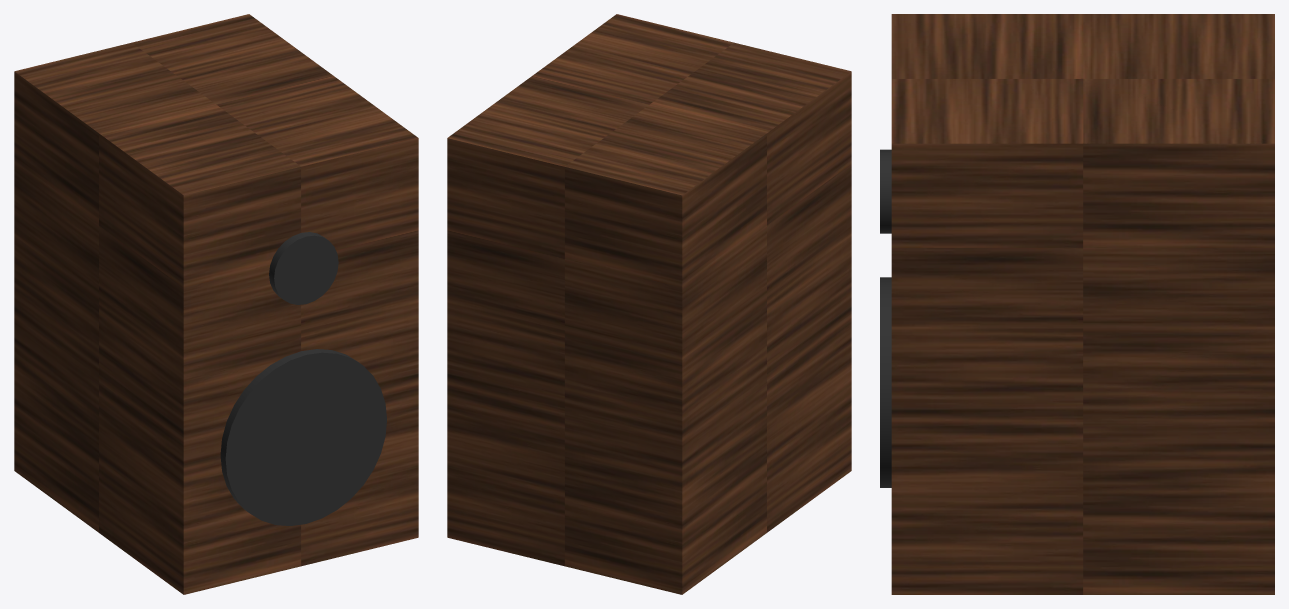
File: obj-speaker.glb
3 views of the same model, side by side, from view 1: azimuth 30°, elevation 25°; view 2: azimuth 150°, elevation 25°; view 3: azimuth 270°, elevation 25° (orthographic). The views are drawn at different scales.
Visible parts, largest first — view 1: obj-speaker; view 2: obj-speaker; view 3: obj-speaker.
Boxes of the visible parts, x1=… form: obj-speaker: x1=14, y1=14, x2=418, y2=594; obj-speaker: x1=447, y1=14, x2=851, y2=594; obj-speaker: x1=880, y1=14, x2=1274, y2=594.
Bounding box in the file's own units: 0.16 × 0.26 × 0.206.
2 materials, 1 textured.
